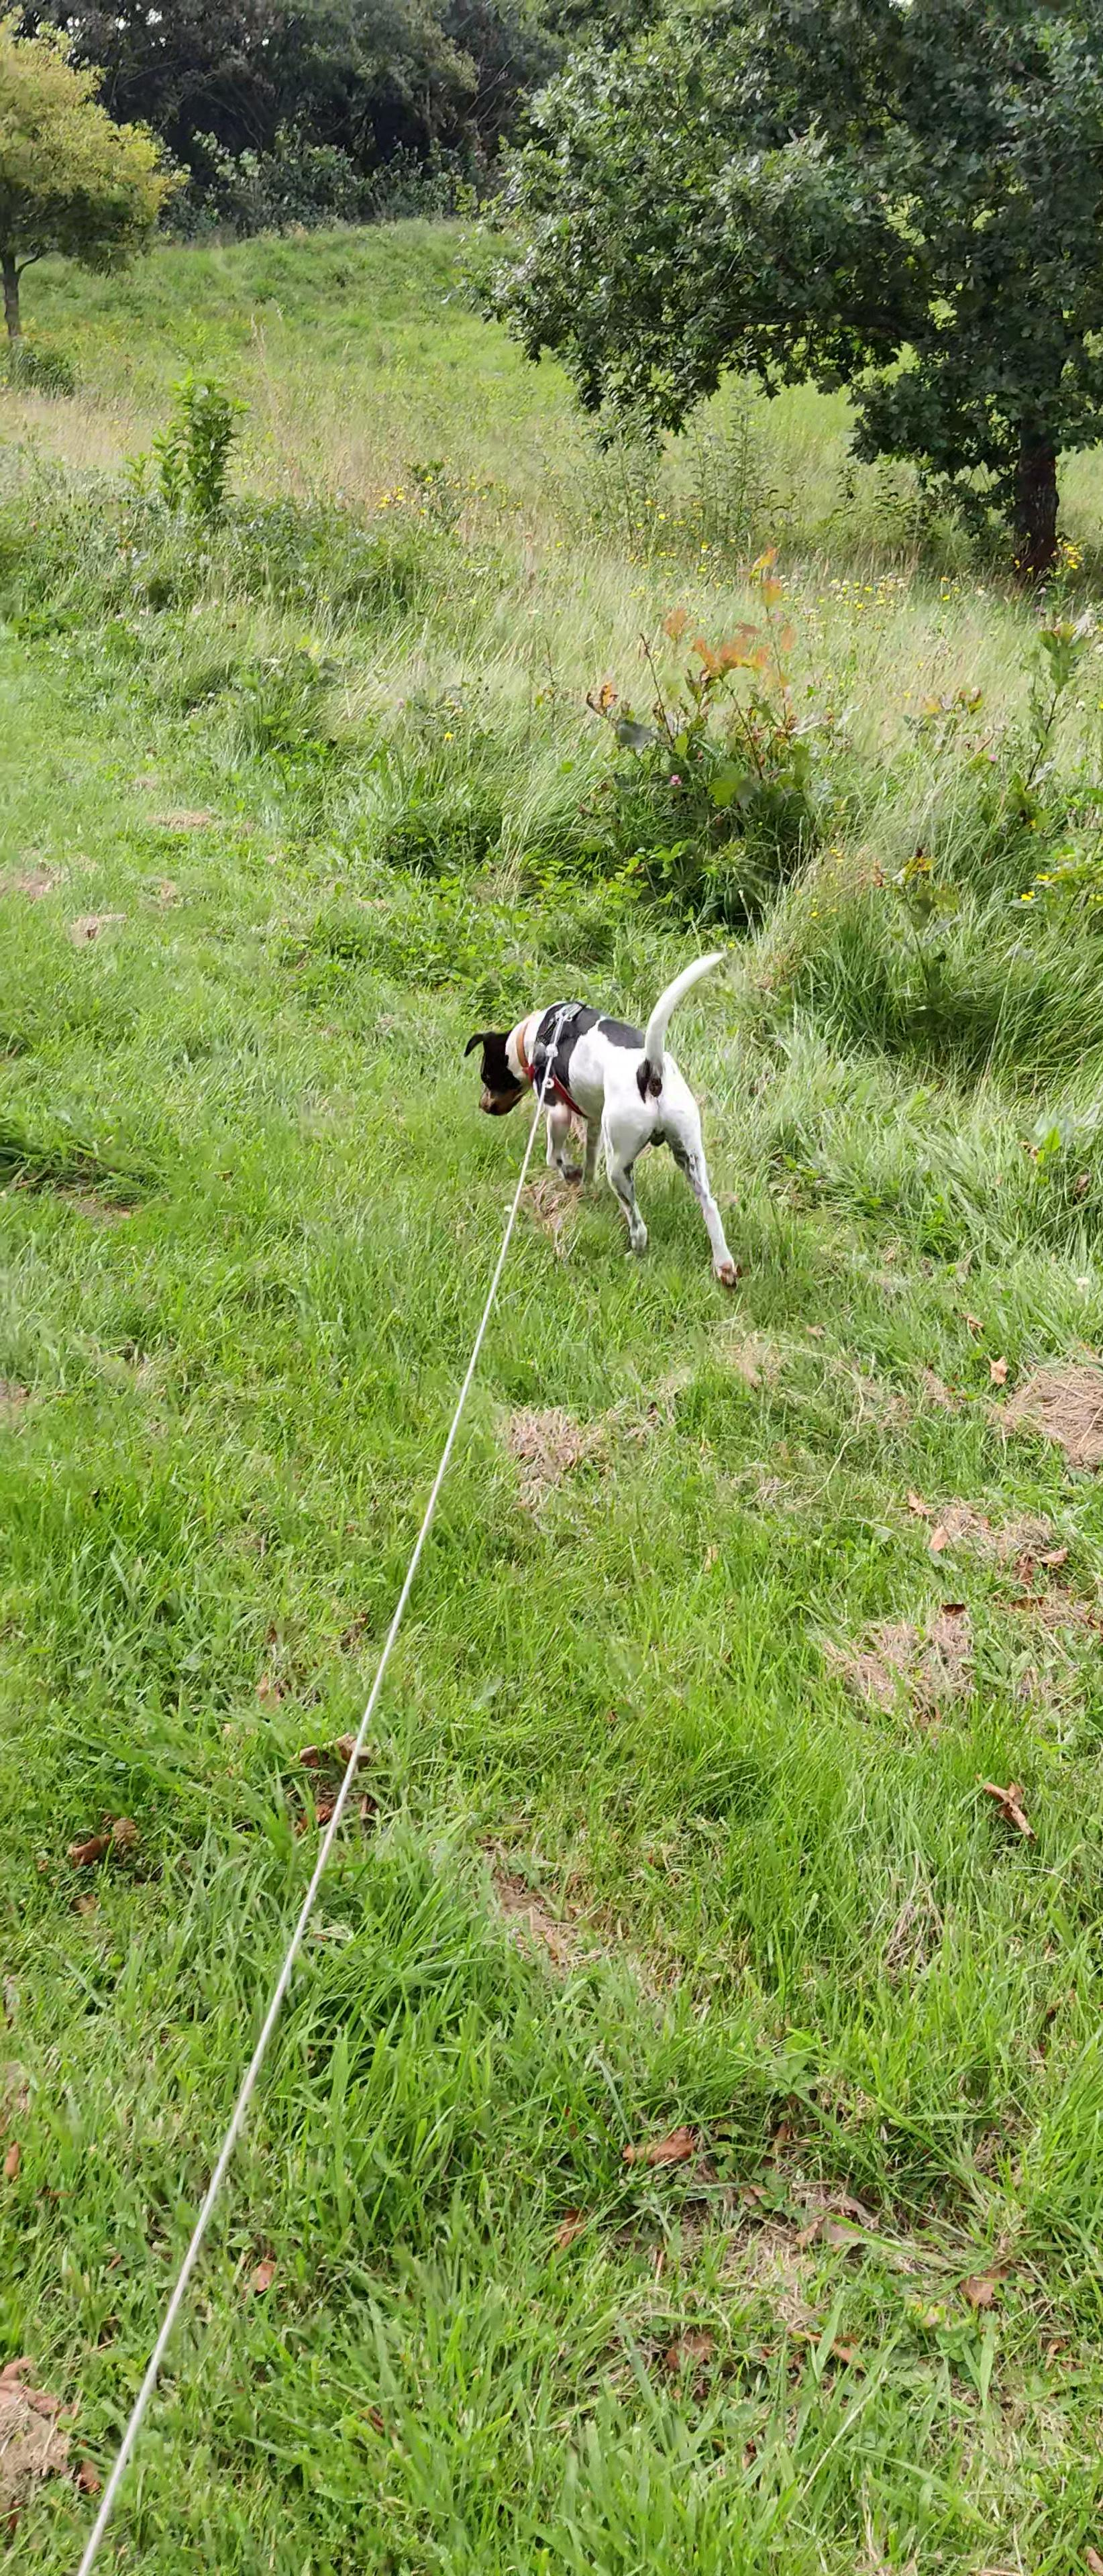Dog: (442, 907, 759, 1309)
